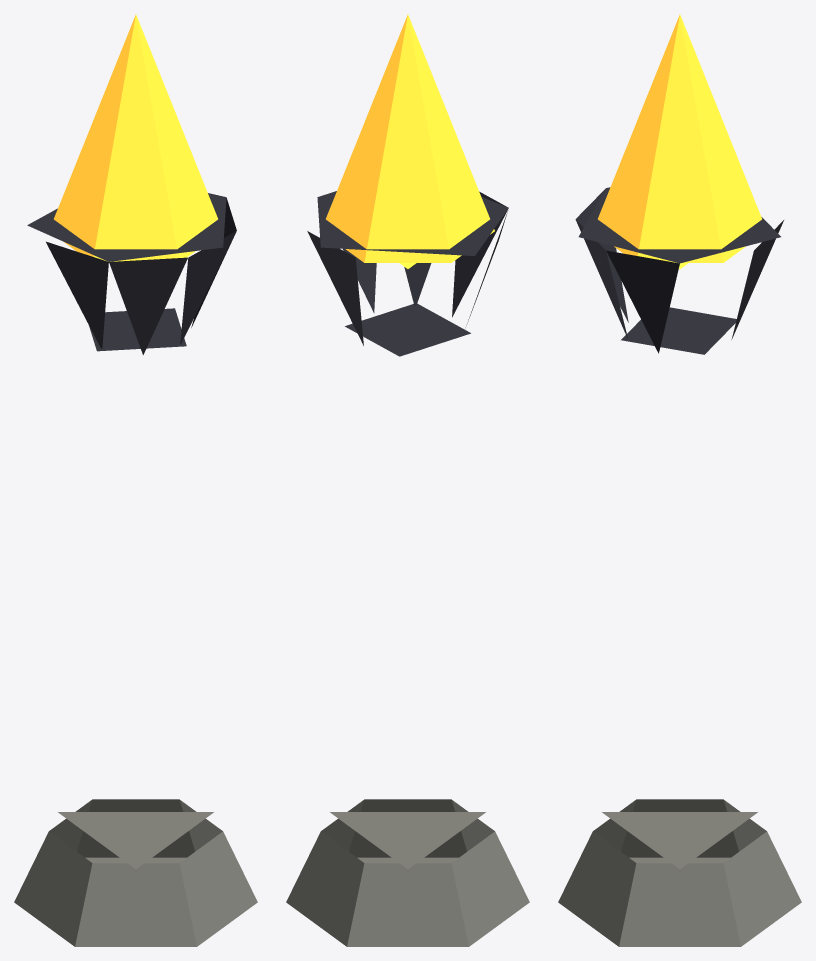
Rendered from night_torch_stand_lod1.glb.
The picture shows the model from 3 angles, left to right: view 1: azimuth 30°, elevation 25°; view 2: azimuth 150°, elevation 25°; view 3: azimuth 270°, elevation 25°; orthographic projection.
Parts seen in each view (by area): view 1: night_torch_stand_lod1; view 2: night_torch_stand_lod1; view 3: night_torch_stand_lod1.
Boxes of the visible parts, left/top/right/bottom form: night_torch_stand_lod1: left=14, top=14, right=257, bottom=946; night_torch_stand_lod1: left=286, top=14, right=529, bottom=946; night_torch_stand_lod1: left=558, top=14, right=801, bottom=946.
Bounding box in the file's own units: 0.485 × 2.25 × 0.56.
